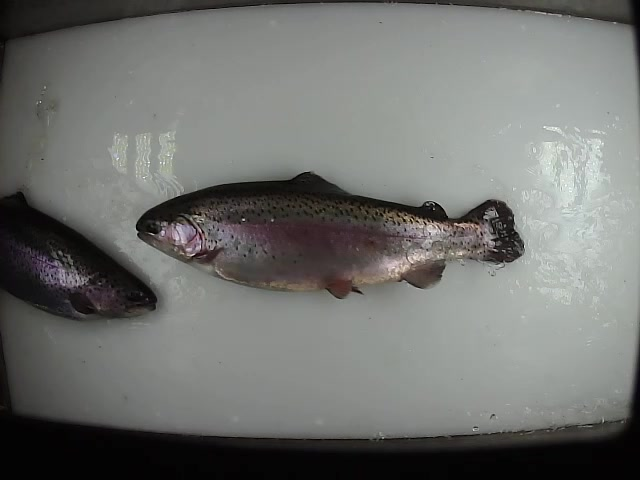fish: (133, 168, 528, 302), (2, 190, 158, 323)
